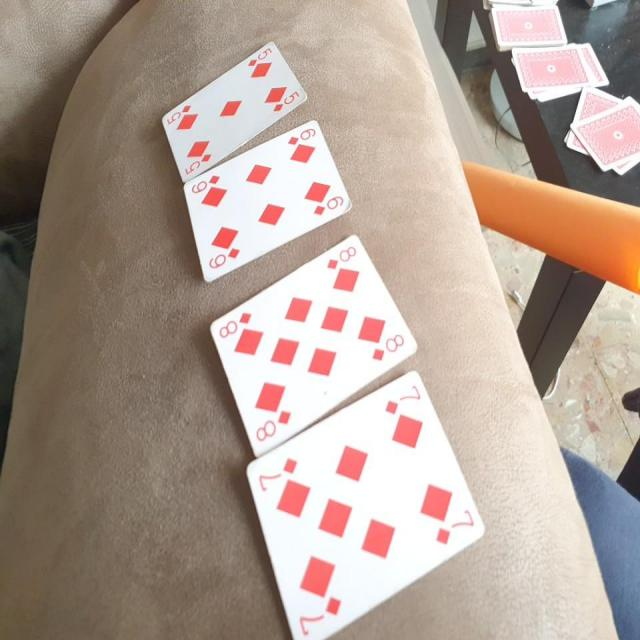5 Diamonds: (158, 37, 312, 184)
6 Diamonds: (183, 114, 354, 282)
7 Diamonds: (244, 368, 485, 639)
8 Diamonds: (207, 233, 418, 455)
